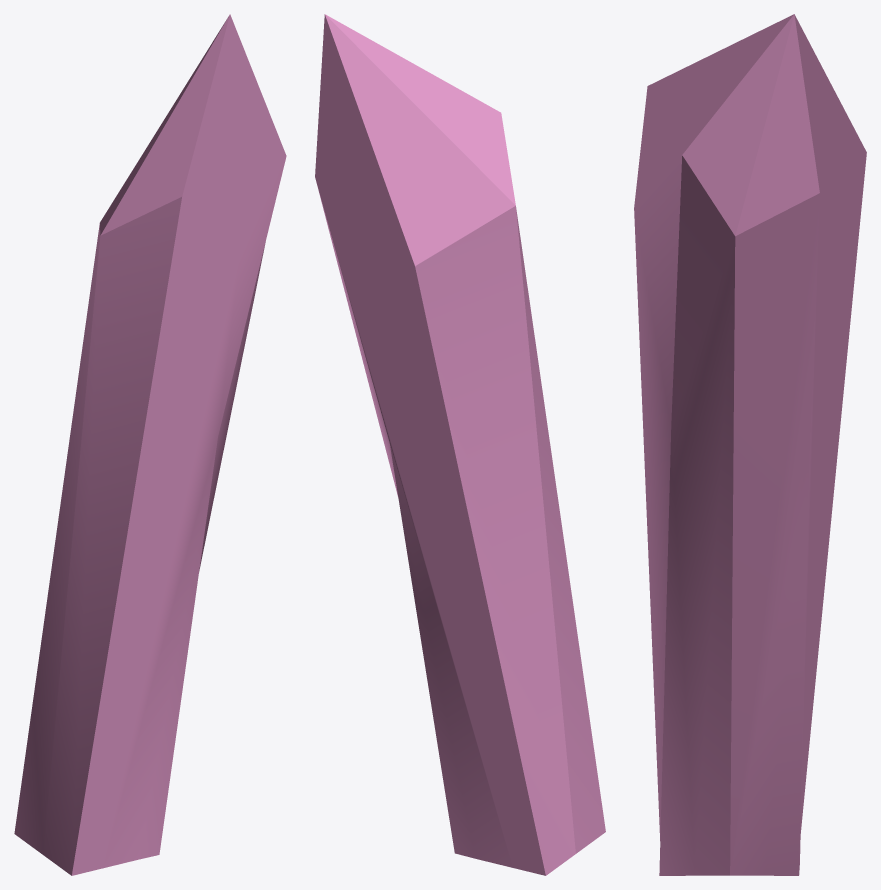
The model's file is Big_Crystal_4_LOD.fbx.
3 views of the same model, side by side, from view 1: azimuth 30°, elevation 25°; view 2: azimuth 150°, elevation 25°; view 3: azimuth 270°, elevation 25° (orthographic). The views are drawn at different scales.
Parts seen in each view (by area): view 1: pCube65; view 2: pCube65; view 3: pCube65.
Part boxes in pixels (bbox=[...]): pCube65: bbox=[14, 14, 286, 875]; pCube65: bbox=[315, 14, 605, 875]; pCube65: bbox=[634, 14, 866, 875].
Size of the model in its own units: 3.12 by 9.83 by 2.21.
